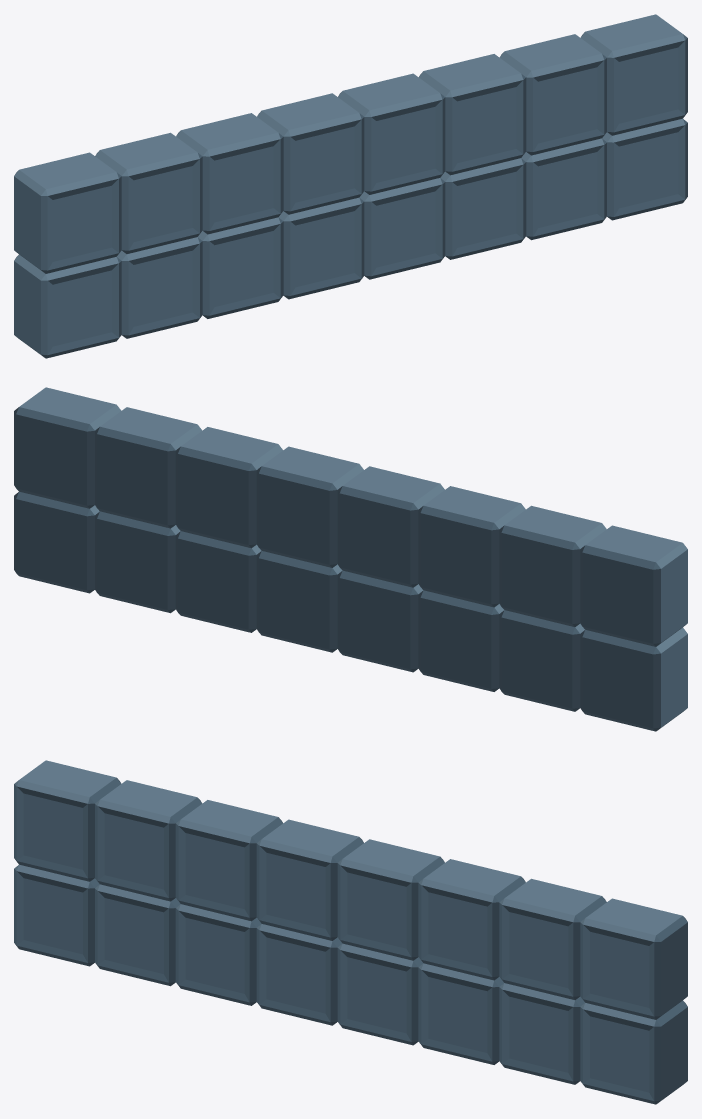
The model's file is Terrain_Block8x2.gltf.
3 views of the same model, one above another, from view 1: azimuth 30°, elevation 25°; view 2: azimuth 150°, elevation 25°; view 3: azimuth 330°, elevation 25° (orthographic).
Visible parts, largest first — view 1: Terrain_Block8x2_baked; view 2: Terrain_Block8x2_baked; view 3: Terrain_Block8x2_baked.
Part boxes in pixels (box(x1,y1,x2,y2)): Terrain_Block8x2_baked: box(14, 14, 687, 358); Terrain_Block8x2_baked: box(14, 387, 687, 731); Terrain_Block8x2_baked: box(14, 760, 687, 1104).
Size of the model in its own units: 8 by 2 by 0.6822.
